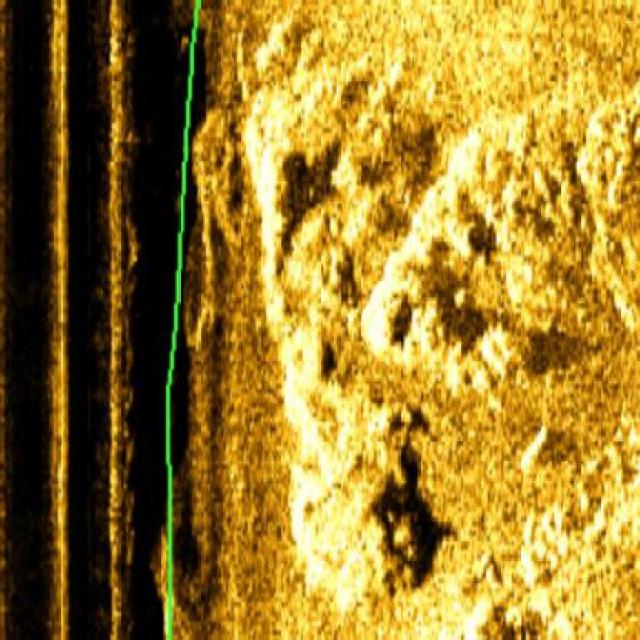bedrock group: (238, 75, 639, 639)
